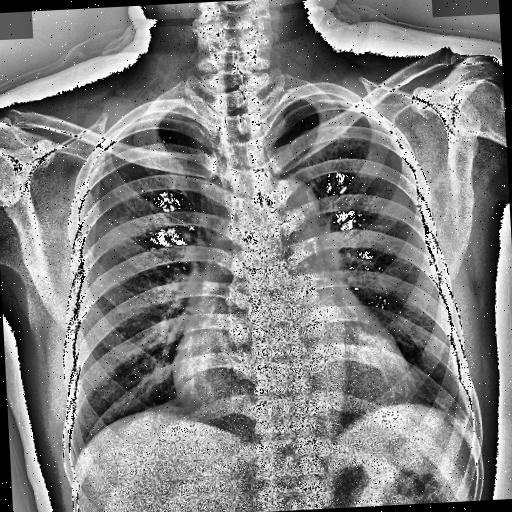3- Cardiomegaly: (172, 315, 414, 424), (172, 324, 420, 420)
